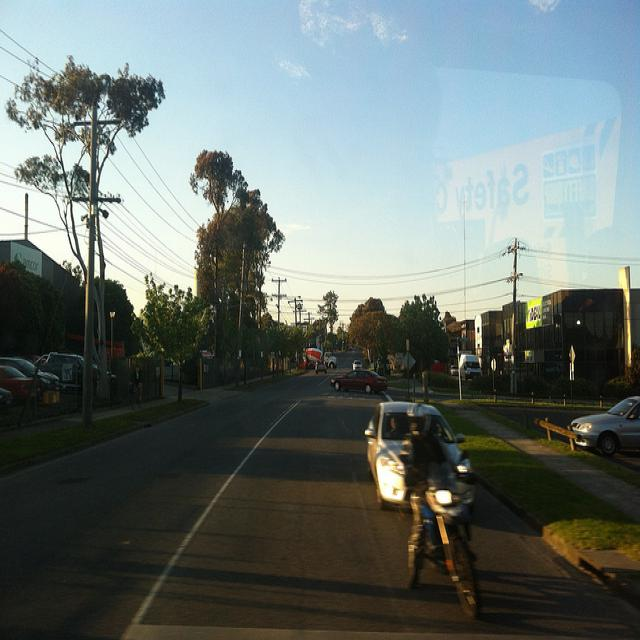motor: (418, 448, 482, 626)
